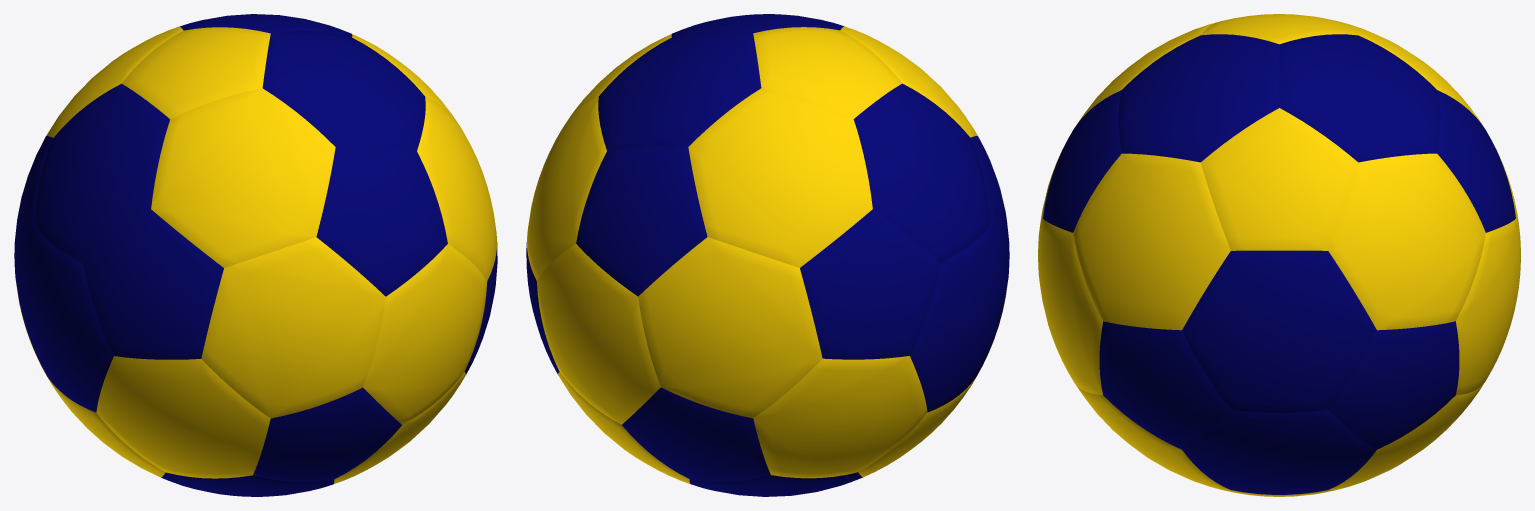
File: Ball2.fbx
3 views of the same model, side by side, from view 1: azimuth 30°, elevation 25°; view 2: azimuth 150°, elevation 25°; view 3: azimuth 270°, elevation 25° (orthographic).
Parts seen in each view (by area): view 1: Ball; view 2: Ball; view 3: Ball.
Boxes of the visible parts, box(x1,y1,x2,y2) form: Ball: box(14, 14, 497, 496); Ball: box(526, 14, 1009, 496); Ball: box(1038, 14, 1520, 496).
Size of the model in its own units: 0.9958 by 0.997 by 0.9966.
